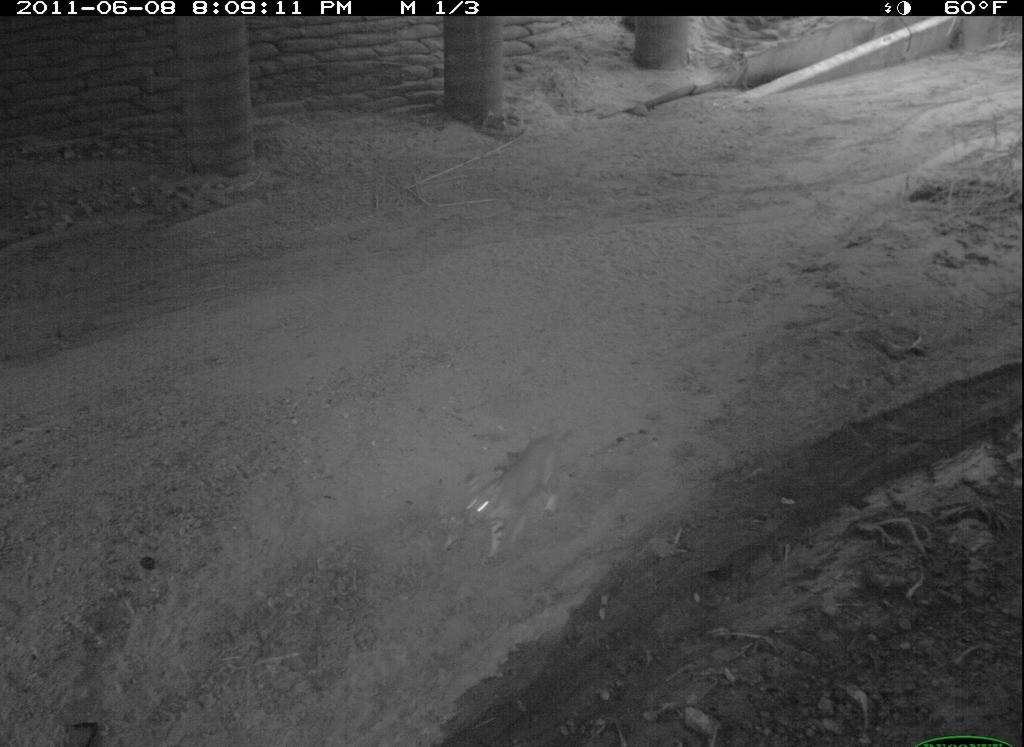bobcat: (440, 413, 583, 577)
